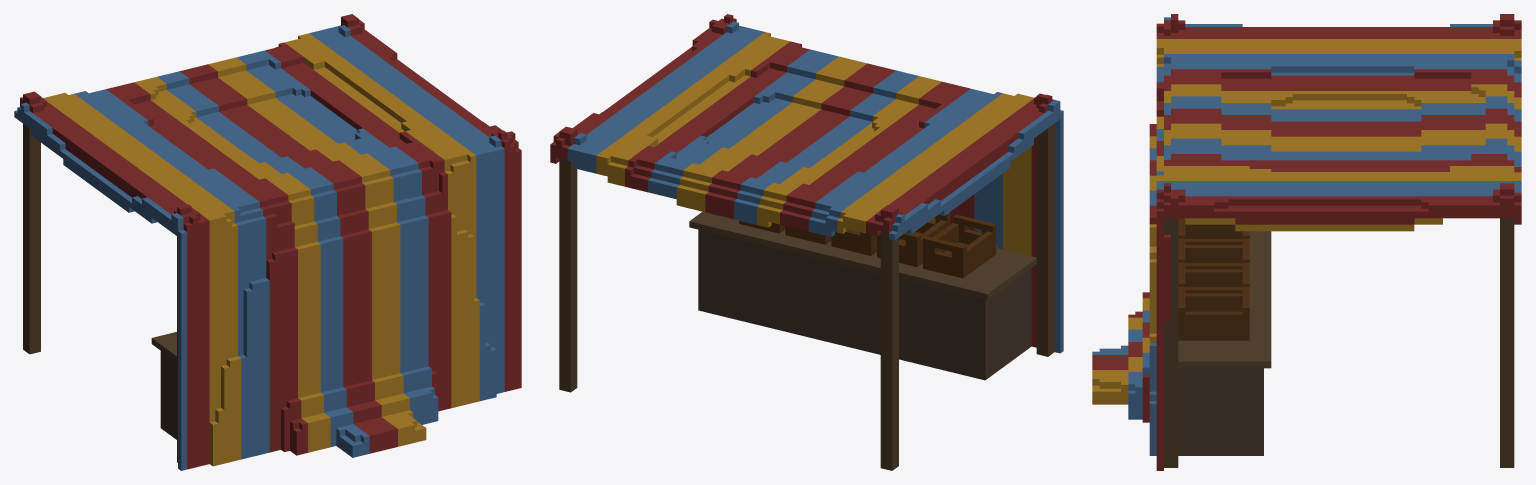
File: Stand 2.obj
3 views of the same model, side by side, from view 1: azimuth 30°, elevation 25°; view 2: azimuth 150°, elevation 25°; view 3: azimuth 270°, elevation 25° (orthographic). The views are drawn at different scales.
Bounding box in the file's own units: 6 × 4.3 × 6.
1 material, 1 textured.
